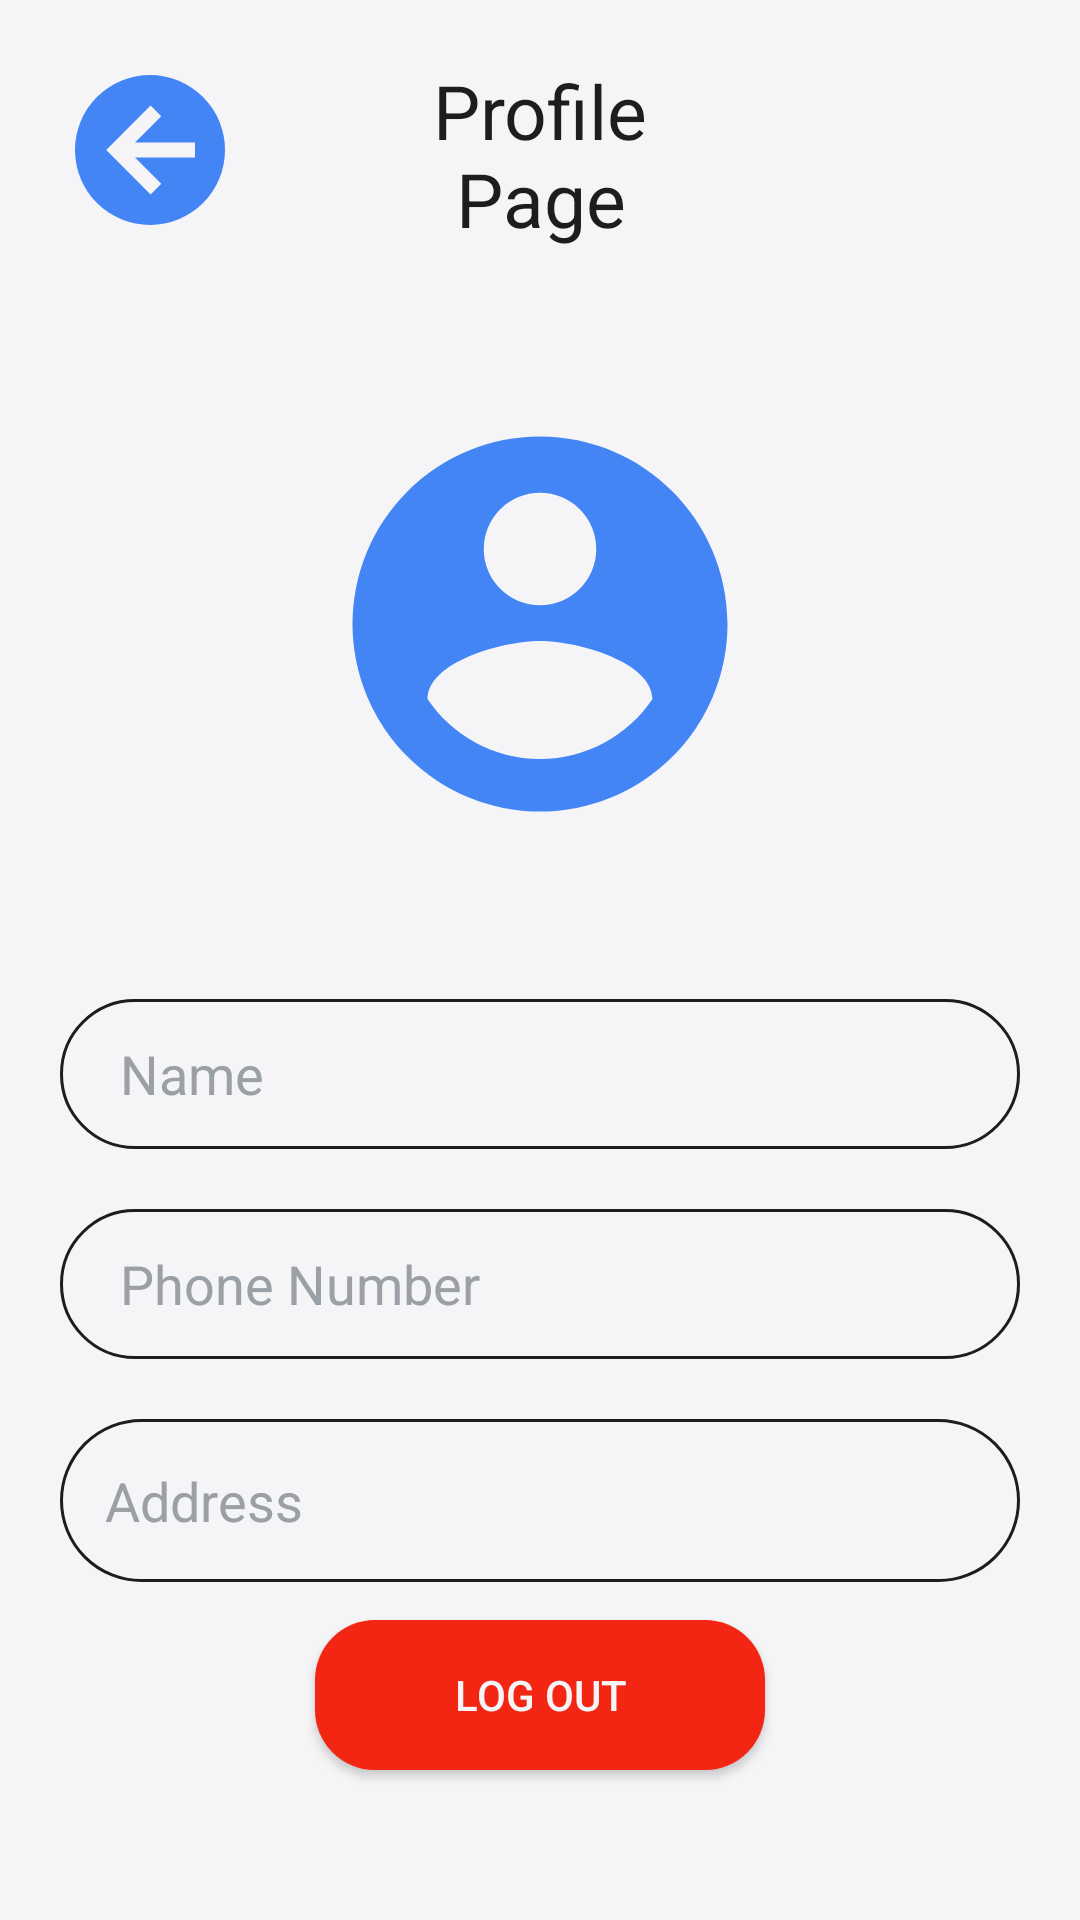

Point at icon controls on the screen. Image size 1080px×1920px, points as (x=x, y=y).
back arrow: (x=150, y=150)
